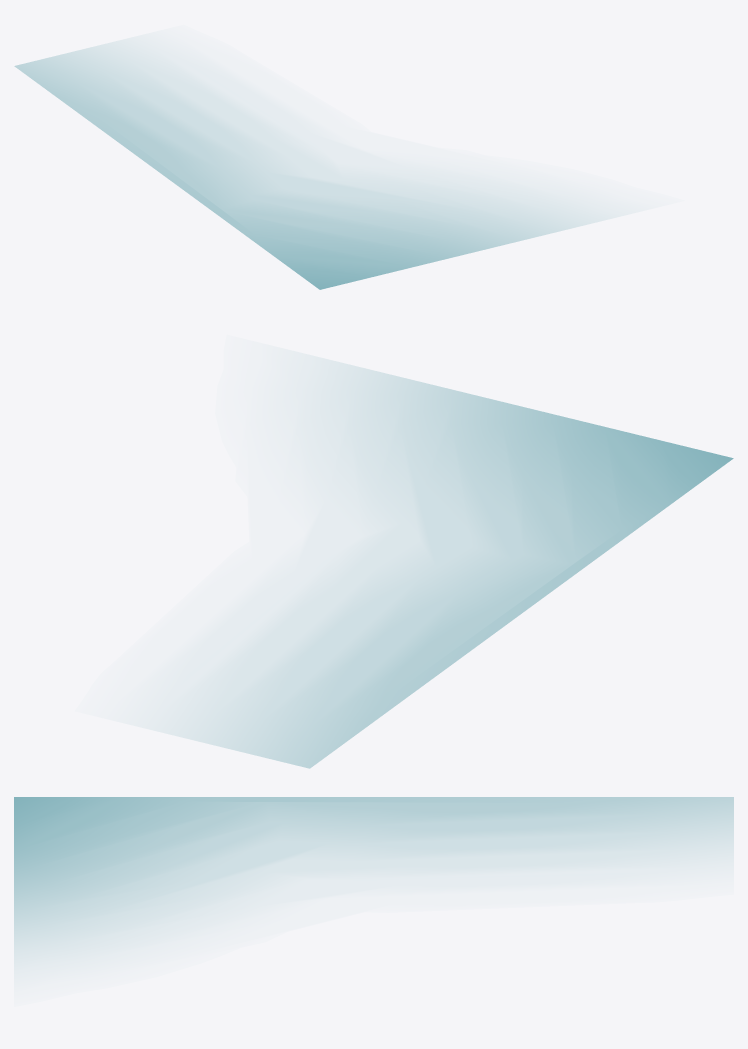
3 renders of one model, top to bottom at view 1: azimuth 30°, elevation 25°; view 2: azimuth 150°, elevation 25°; view 3: azimuth 270°, elevation 25°, orthographic. The views are drawn at different scales.
Visible parts, largest first — view 1: city; view 2: city; view 3: city.
Part boxes in pixels (x1,y1,x2,y2): city: (14,41,610,289); city: (165,360,733,768); city: (14,797,733,964).
Size of the model in its own units: 391 by 0 by 500.
